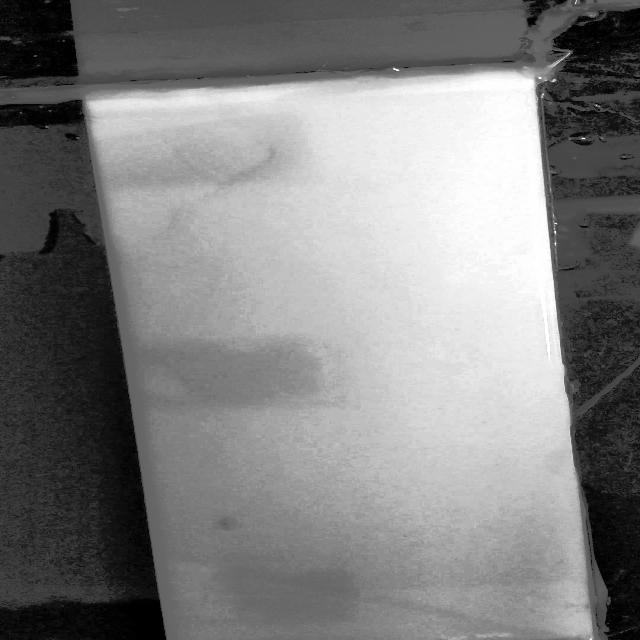shrimp: (212, 517, 240, 534)
